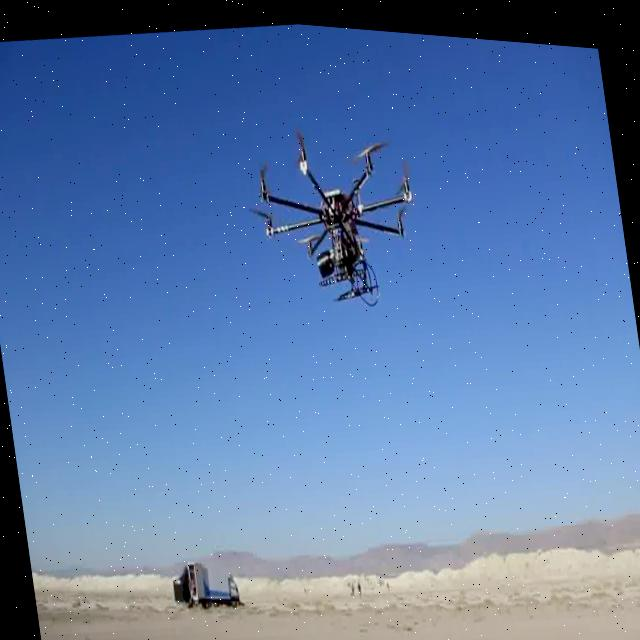drone: (30, 468, 640, 640)
